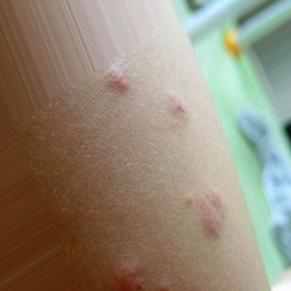Fleas: (180, 188, 226, 236), (102, 66, 134, 98), (112, 262, 144, 290), (162, 89, 188, 122)
